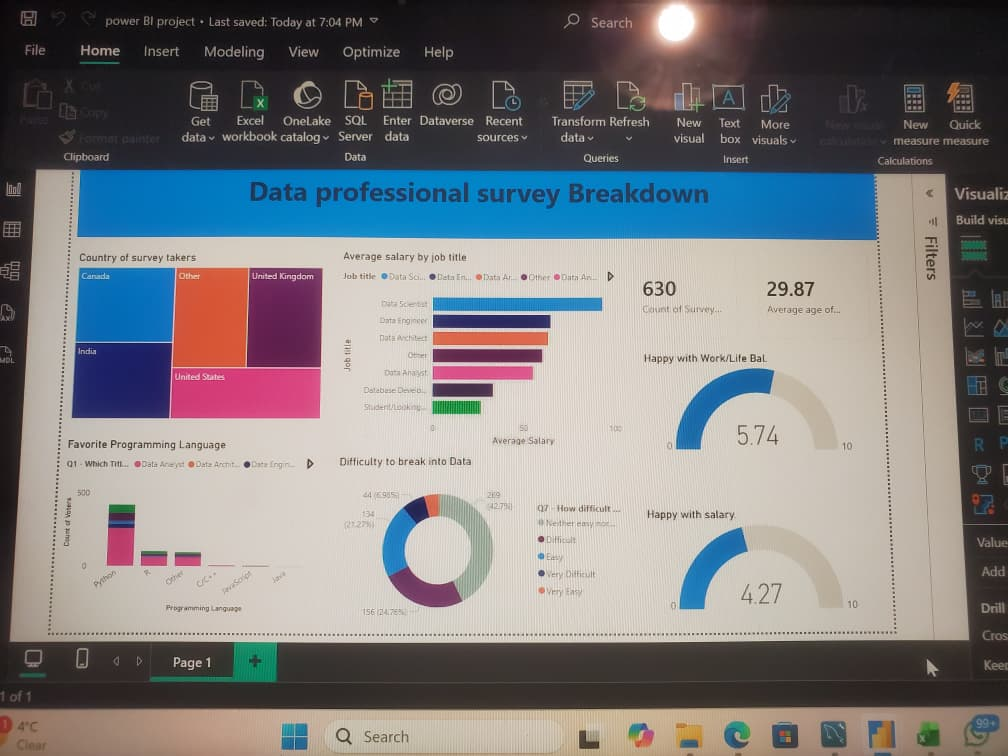

What the dashboard file says about the page in this screenshot:
{"tool":"powerbi","page":{"name":"Page 1","canvas":[1280,720],"ordinal":0},"visuals":[{"type":"textbox","box":[9.9,0,1270.5,109.3],"z":0},{"type":"cardVisual","fields":{"Data":["Count(Data Professional Survey (2).Unique ID)"]},"box":[873,109.3,195.5,177.2],"z":1000},{"type":"cardVisual","fields":{"Data":["Avg(Data Professional Survey (2).Q10 - Current Age)"]},"box":[1068.4,109.3,212,177.2],"z":2000},{"type":"barChart","title":"Average salary by job title","fields":{"Category":["Data Professional Survey (2).Q1 - Which Title Best Fits your Current Role?.1"],"Y":["Avg(Data Professional Survey (2).Average Salary)"],"Series":["Data Professional Survey (2).Q1 - Which Title Best Fits your Current Role?.1"]},"box":[425.7,129.2,447.2,313.1],"z":3000},{"type":"columnChart","title":"Favorite Programming Language","fields":{"Category":["Data Professional Survey (2).Q5 - Favorite Programming Language.1"],"Y":["CountNonNull(Data Professional Survey (2).Unique ID)"],"Series":["Data Professional Survey (2).Q1 - Which Title Best Fits your Current Role?.1"]},"box":[6.6,425.7,399.2,268.3],"z":4000},{"type":"treemap","title":"Country of survey takers","fields":{"Group":["Data Professional Survey (2).Q11 - Which Country do you live in?.1"],"Values":["Count(Data Professional Survey (2).Q11 - Which Country do you live in?.1)"]},"box":[9.9,132.5,394.2,268.3],"z":5000},{"type":"gauge","title":"Happy with salary.","fields":{"Y":["Avg(Data Professional Survey (2).Q6 - How Happy are you in your Current Position with the following? (Salary))"],"MinValue":["Min(Data Professional Survey (2).Q6 - How Happy are you in your Current Position with the following? (Salary))"],"MaxValue":["Max(Data Professional Survey (2).Q6 - How Happy are you in your Current Position with the following? (Salary))1"]},"box":[899.5,531.7,364.4,162.3],"z":6000},{"type":"gauge","title":"  Happy with Work/Life Bal.","fields":{"Y":["Avg(Data Professional Survey (2).Q6 - How Happy are you in your Current Position with the following? (Work/Life Balance)"],"MinValue":["Min(Data Professional Survey (2).Q6 - How Happy are you in your Current Position with the following? (Work/Life Balance)"],"MaxValue":["Max(Data Professional Survey (2).Q6 - How Happy are you in your Current Position with the following? (Work/Life Balance)"]},"box":[899.5,289.9,364.4,162.3],"z":7000},{"type":"donutChart","title":"Difficulty to break into Data","fields":{"Category":["Data Professional Survey (2).Q7 - How difficult was it for you to break into Data?"],"Y":["CountNonNull(Data Professional Survey (2).Q7 - How difficult was it for you to break into Data?)"]},"box":[425.7,452.2,447.2,268.3],"z":8000}]}

Visuals, with their boxes on the page's 1280x720 design canvas (x1, y1, x2, y2). These are canvas units, not pixel positions in the 1008x756 screenshot, which may show the page scaled, cropped or inside an application window:
textbox: box=[10, 0, 1280, 109]
cardVisual - Count(Data Professional Survey (2).Unique ID): box=[873, 109, 1068, 286]
cardVisual - Avg(Data Professional Survey (2).Q10 - Current Age): box=[1068, 109, 1280, 286]
"Average salary by job title" barChart: box=[426, 129, 873, 442]
"Favorite Programming Language" columnChart: box=[7, 426, 406, 694]
"Country of survey takers" treemap: box=[10, 132, 404, 401]
"Happy with salary." gauge: box=[900, 532, 1264, 694]
"  Happy with Work/Life Bal." gauge: box=[900, 290, 1264, 452]
"Difficulty to break into Data" donutChart: box=[426, 452, 873, 720]
